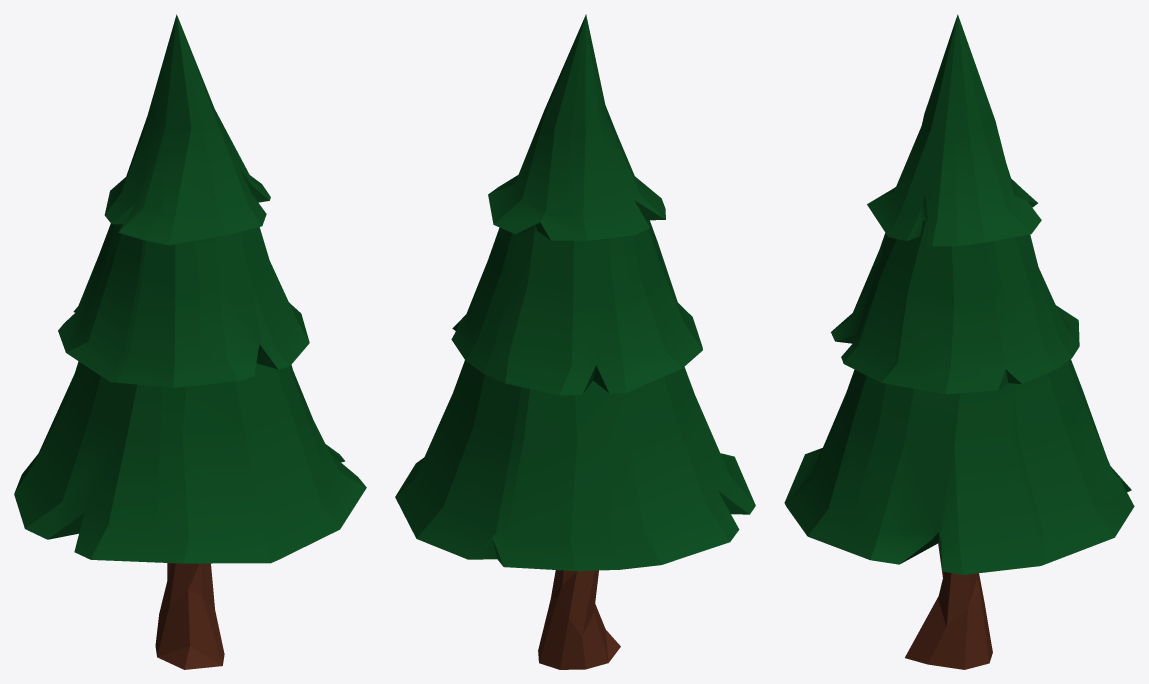
The model's file is Tree_5_Medium.fbx.
The picture shows the model from 3 angles, left to right: view 1: azimuth 30°, elevation 25°; view 2: azimuth 150°, elevation 25°; view 3: azimuth 270°, elevation 25°; orthographic projection.
Visible parts, largest first — view 1: Tree_5_Medium; view 2: Tree_5_Medium; view 3: Tree_5_Medium.
Boxes of the visible parts, <box> form: Tree_5_Medium: <box>14,14,366,669</box>; Tree_5_Medium: <box>395,14,755,669</box>; Tree_5_Medium: <box>784,14,1134,669</box>.
Size of the model in its own units: 109 by 213 by 107.
